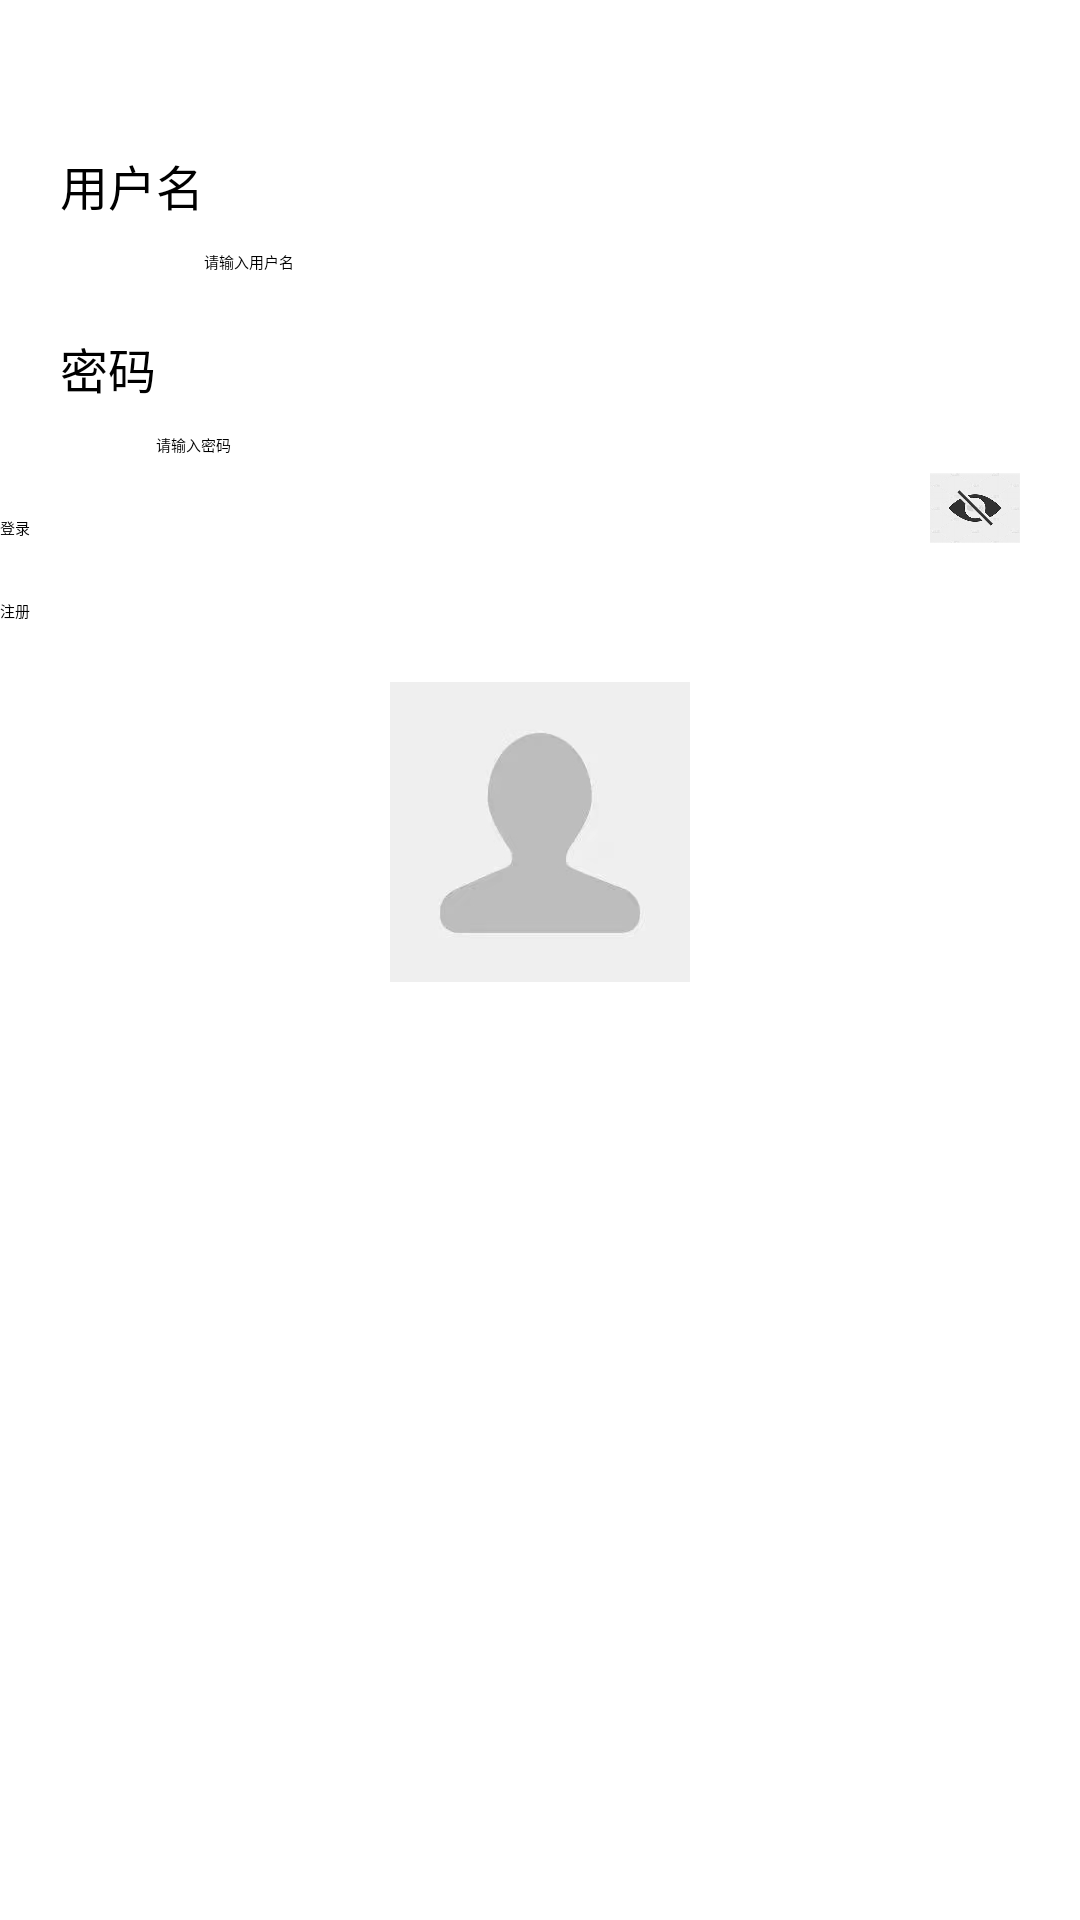

Point at icon controls on the screen. Image size 1080 × 1920, points as point (x, y).
眼睛图标: point (975, 508)
